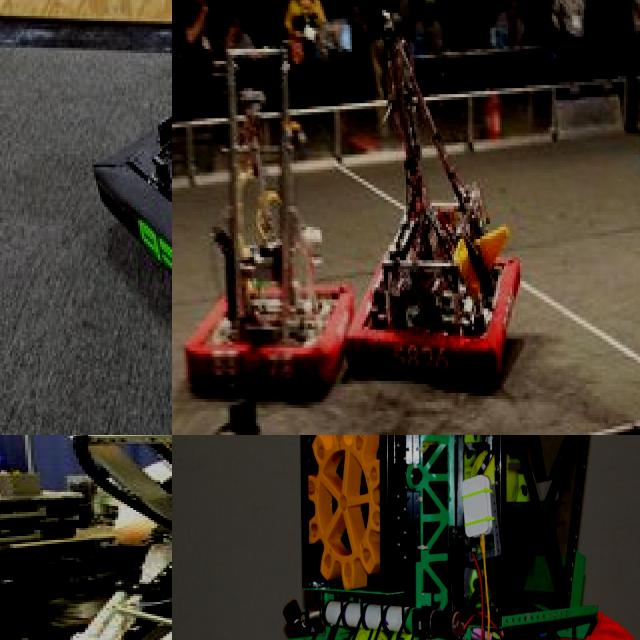FRC-Robots: (209, 435, 640, 640), (349, 0, 513, 383), (204, 41, 340, 428), (67, 0, 172, 386), (0, 435, 172, 640)
